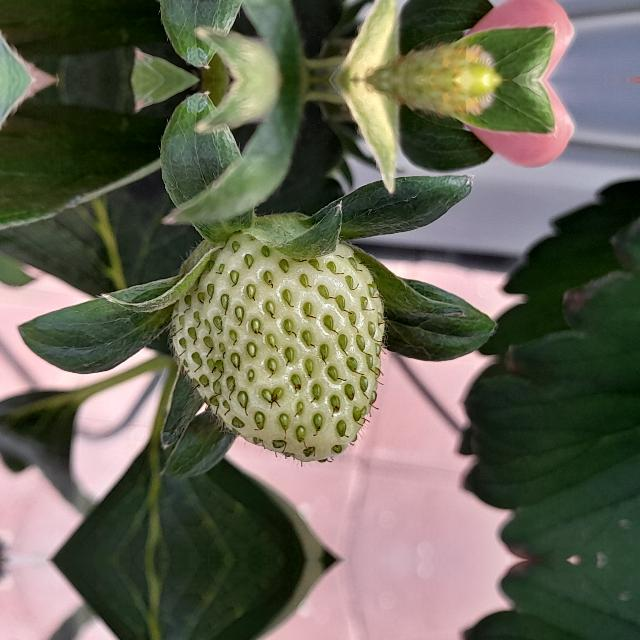Health_25: (166, 228, 390, 467)
